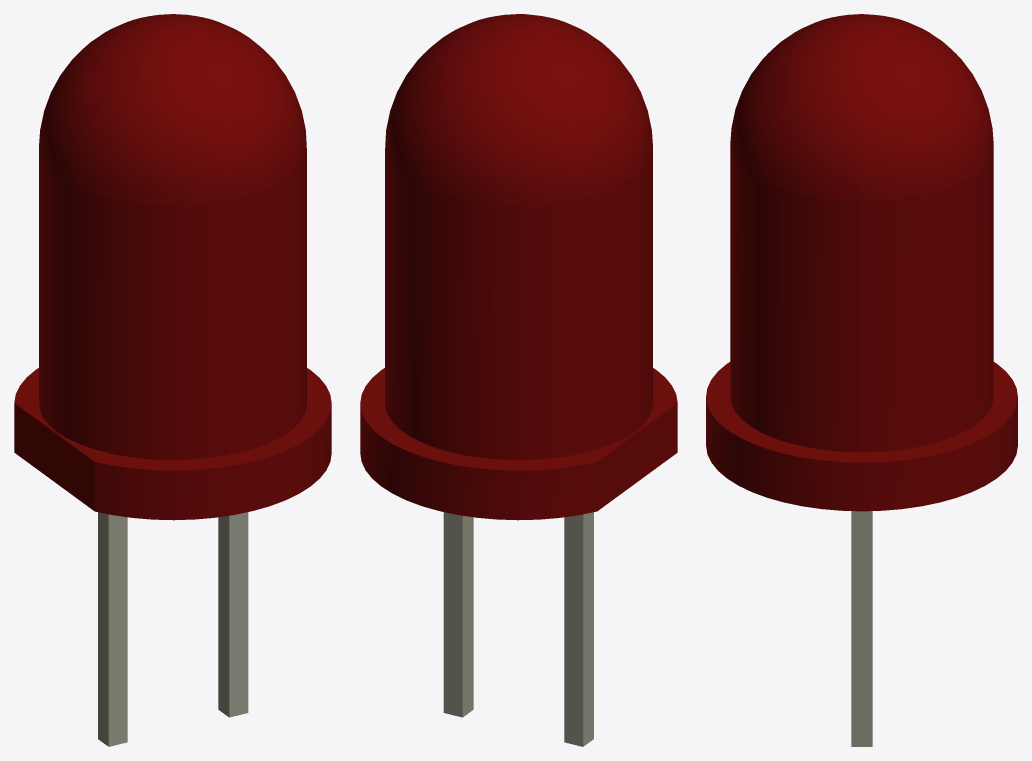
The model's file is led-red.glb.
3 views of the same model, side by side, from view 1: azimuth 30°, elevation 25°; view 2: azimuth 150°, elevation 25°; view 3: azimuth 270°, elevation 25° (orthographic).
Visible parts, largest first — view 1: LED_D5.0mm; view 2: LED_D5.0mm; view 3: LED_D5.0mm.
Part boxes in pixels (x1,y1,x2,y2): LED_D5.0mm: [14, 14, 331, 746]; LED_D5.0mm: [360, 14, 677, 746]; LED_D5.0mm: [706, 14, 1017, 746].
Size of the model in its own units: 5.4 by 14.1 by 5.8.
